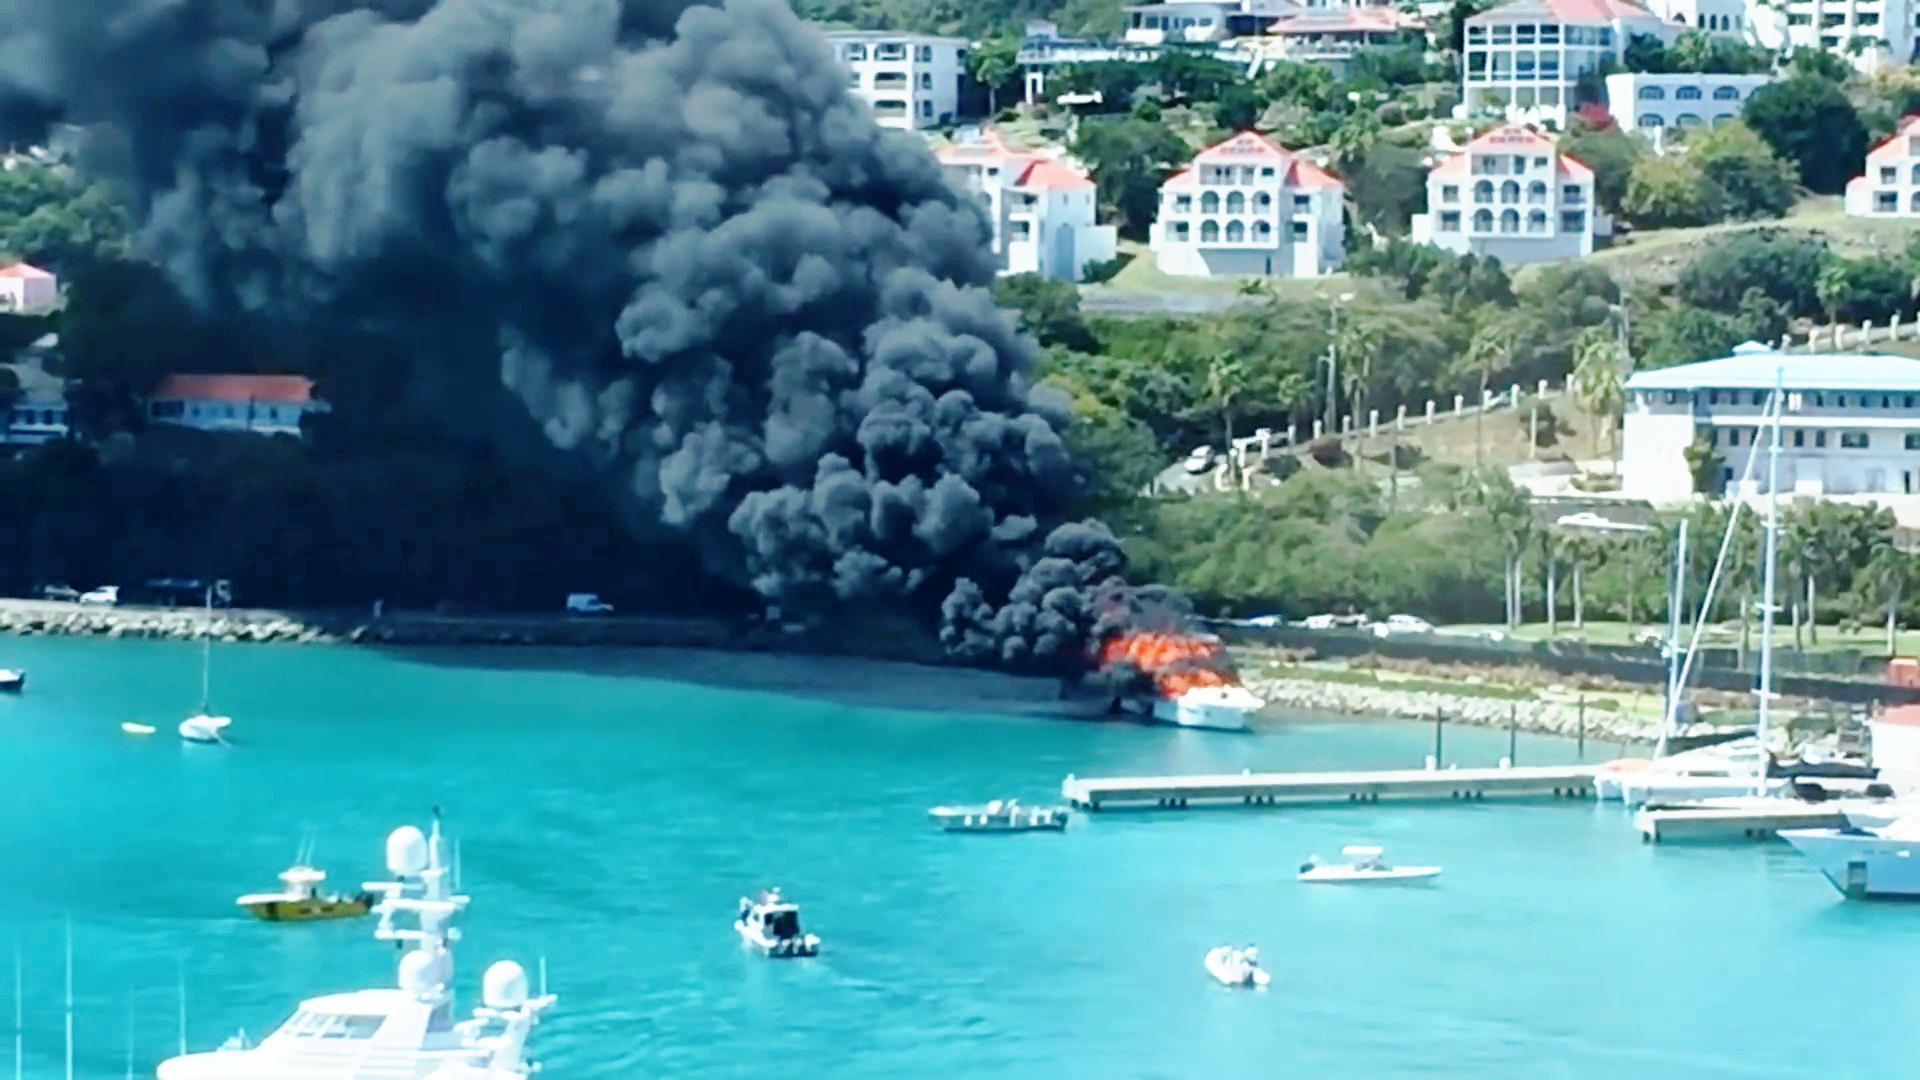smoke: (460, 30, 861, 406), (501, 173, 945, 455), (735, 323, 1018, 588)
